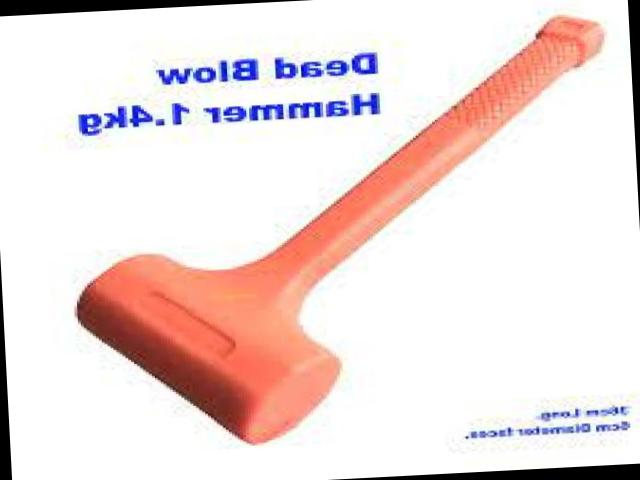hammer: (58, 15, 624, 454)
